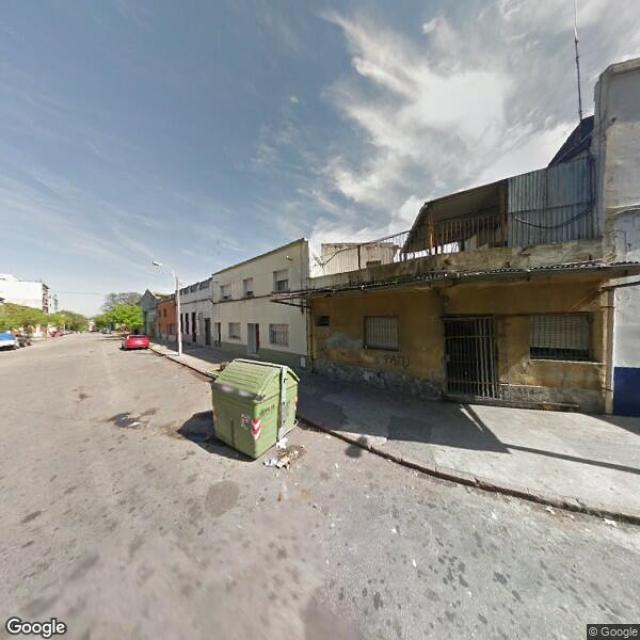garbage container: (198, 349, 318, 470)
